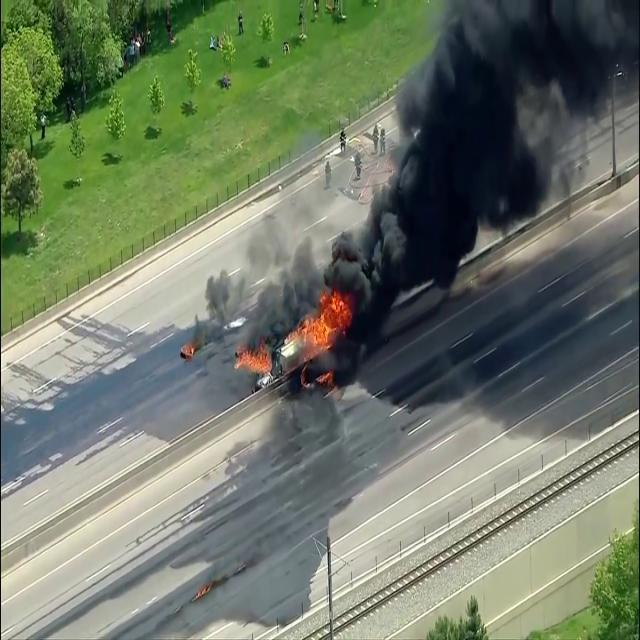Fire: (280, 278, 352, 377)
Smoke: (336, 0, 578, 332), (184, 200, 304, 352)
